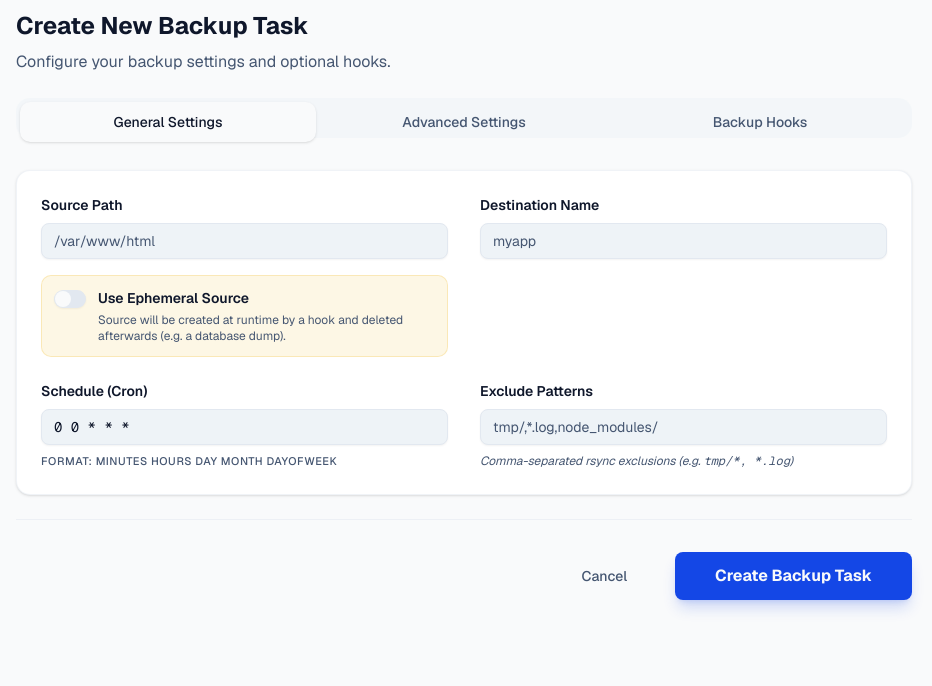
Test: CreateBackupForm › Form Validation › shows validation error for invalid cron expression
The image size is (932, 686).
Type "invalid cron" into the field labelled "Schedule (Cron)" at [244, 427], box top-left (41, 409), bottom-right (448, 445)
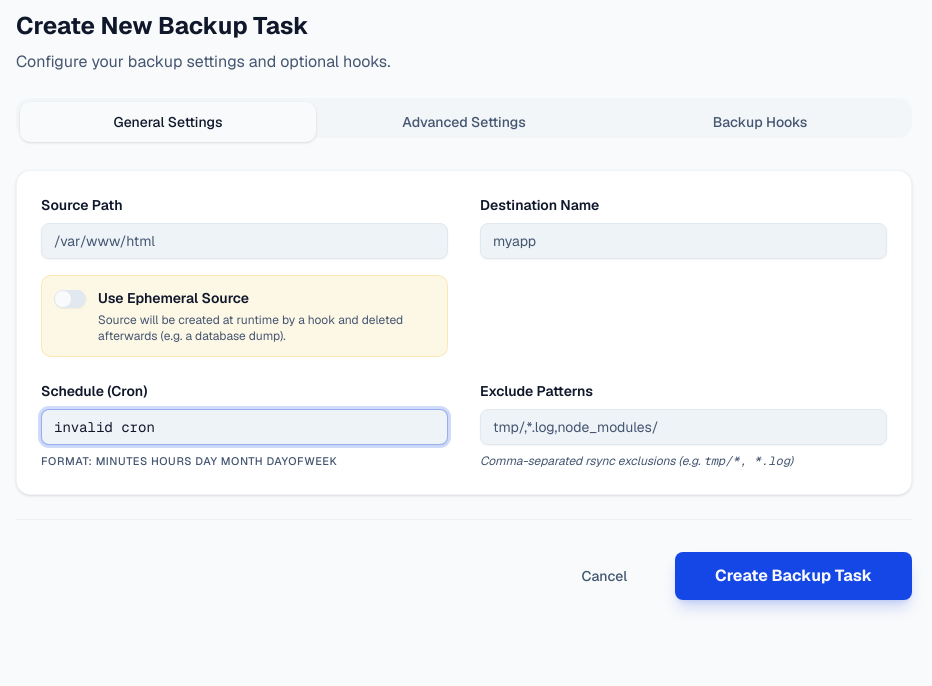
Click the button "Create Backup Task" at [794, 576], box top-left (675, 552), bottom-right (912, 600)
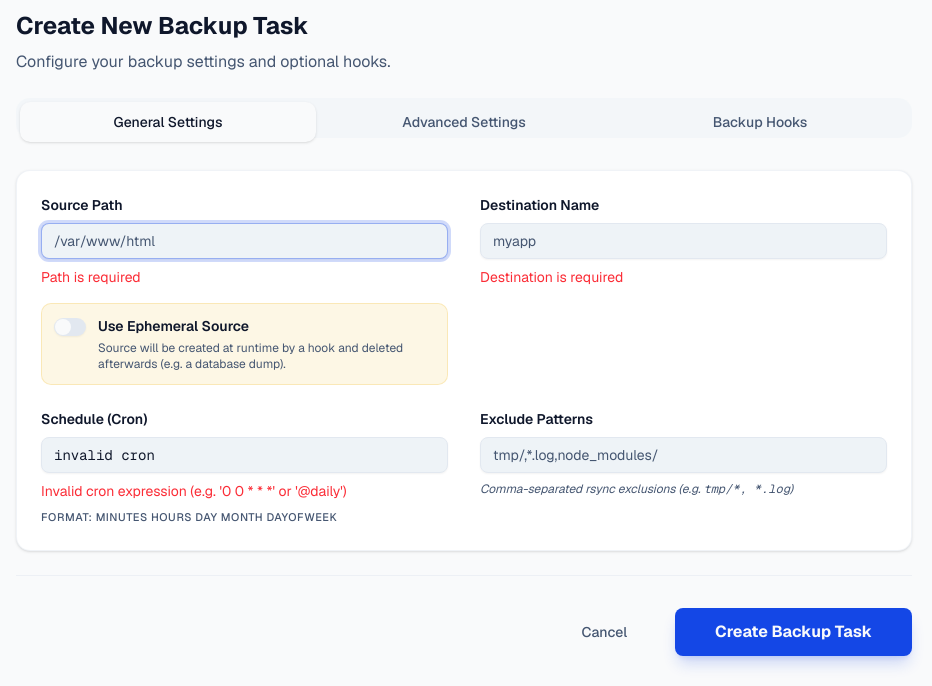
Check: the text "Invalid cron expression (e.g. '0 0 * * *' or '@daily')" is shown, box top-left (41, 482), bottom-right (347, 500)
